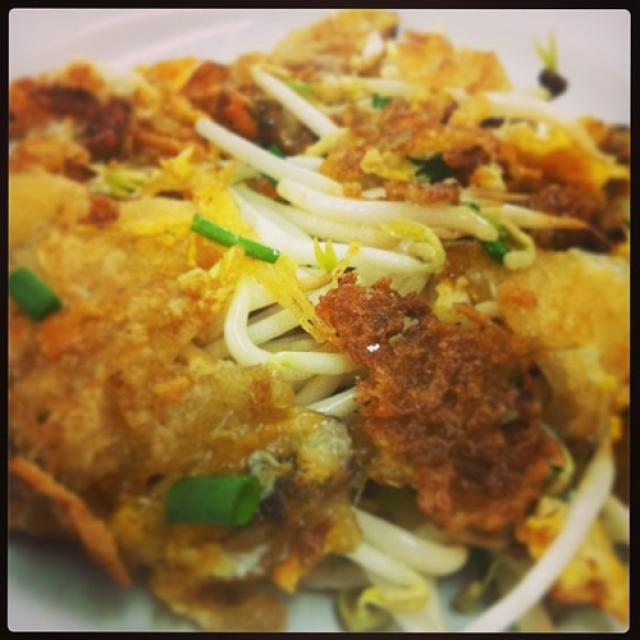炸货点心: (16, 16, 620, 624)
蛋糕甜品: (16, 16, 620, 624)
